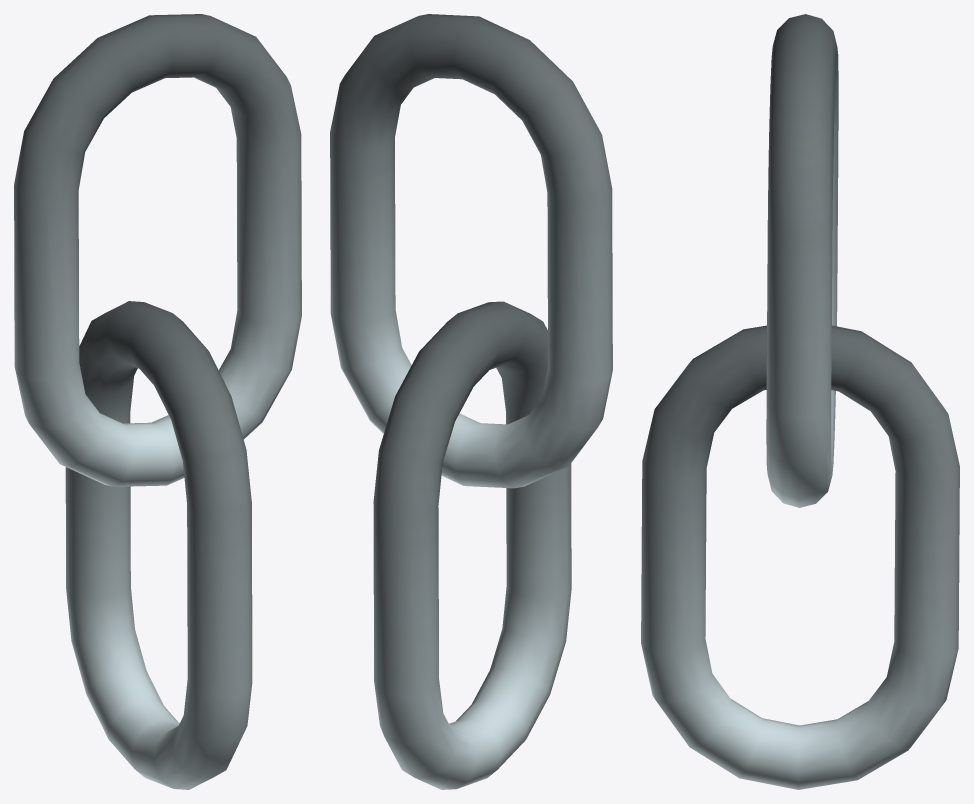
File: Chain.fbx
3 views of the same model, side by side, from view 1: azimuth 30°, elevation 25°; view 2: azimuth 150°, elevation 25°; view 3: azimuth 270°, elevation 25° (orthographic).
Visible parts, largest first — view 1: NurbsPath.001; view 2: NurbsPath.001; view 3: NurbsPath.001.
Boxes of the visible parts, bbox=[...] form: NurbsPath.001: bbox=[14, 14, 301, 789]; NurbsPath.001: bbox=[330, 14, 612, 789]; NurbsPath.001: bbox=[641, 14, 959, 789].
Bounding box in the file's own units: 0.147 × 0.3872 × 0.1476.
